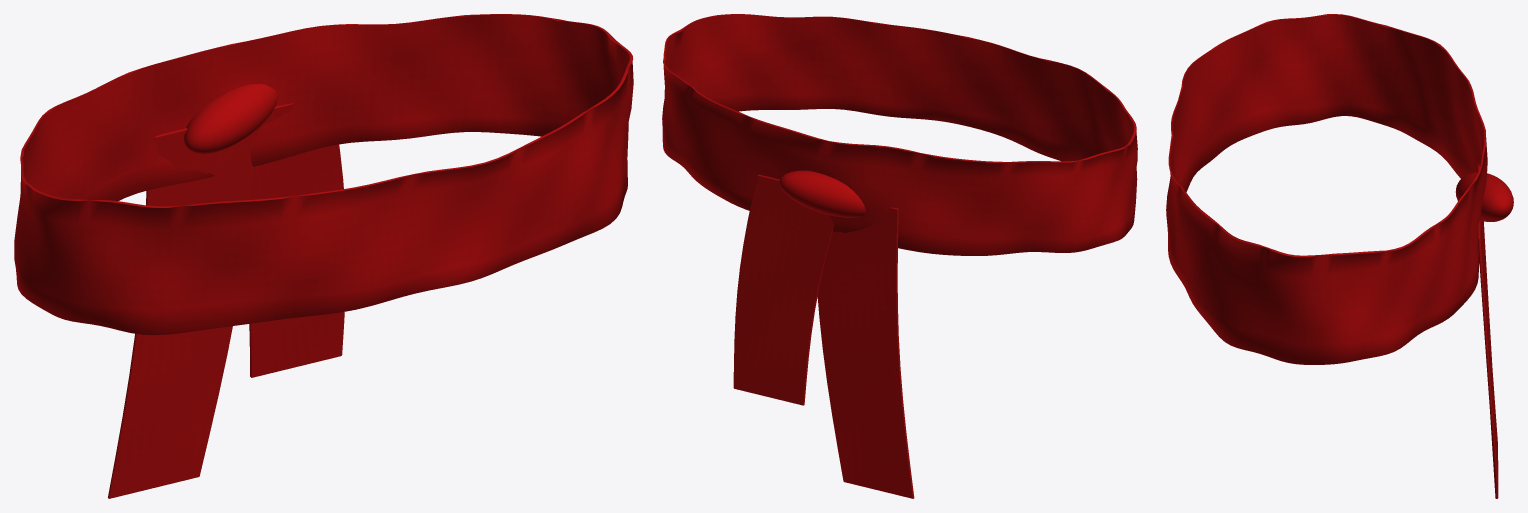
Rendered from headband_rambo_red.fbx.
3 views of the same model, side by side, from view 1: azimuth 30°, elevation 25°; view 2: azimuth 150°, elevation 25°; view 3: azimuth 270°, elevation 25° (orthographic). The views are drawn at different scales.
Visible parts, largest first — view 1: HeadBand_Rambo_Red; view 2: HeadBand_Rambo_Red; view 3: HeadBand_Rambo_Red.
Part boxes in pixels (x1=…): HeadBand_Rambo_Red: x1=14, y1=14, x2=633, y2=498; HeadBand_Rambo_Red: x1=662, y1=14, x2=1137, y2=498; HeadBand_Rambo_Red: x1=1166, y1=14, x2=1513, y2=498.
Bounding box in the file's own units: 26.52 × 18.75 × 15.6.
